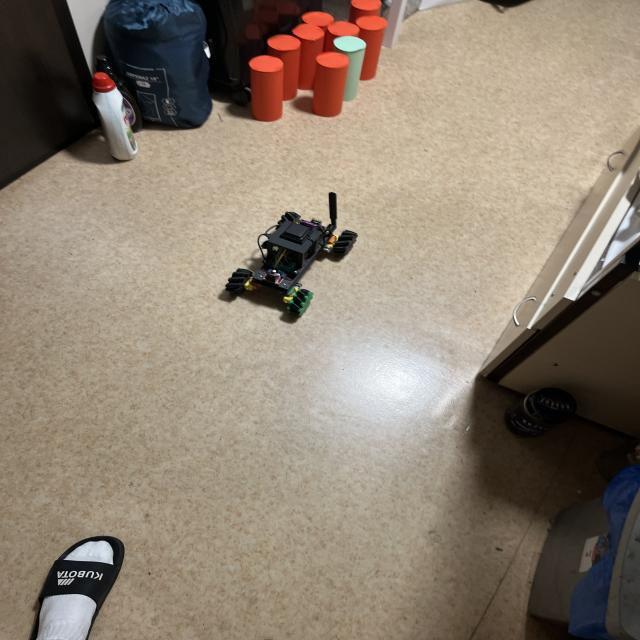robot: (225, 193, 358, 316)
